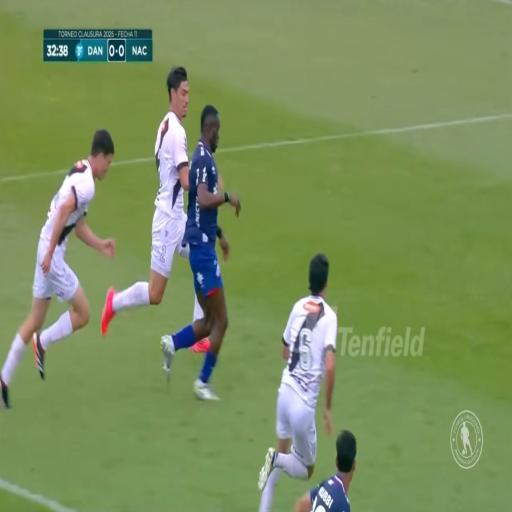Player: (20, 136, 111, 388), (251, 257, 334, 512), (126, 74, 190, 348), (175, 105, 229, 401)
